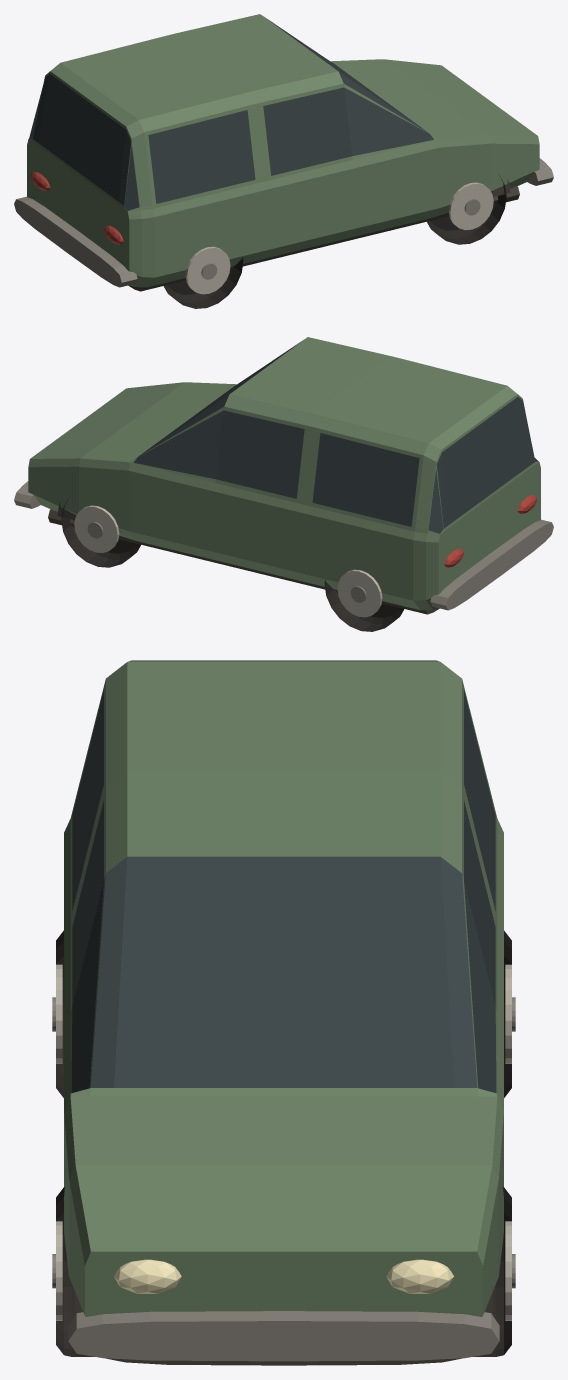
File: hatchback-zeytin.glb
3 views of the same model, one above another, from view 1: azimuth 30°, elevation 25°; view 2: azimuth 150°, elevation 25°; view 3: azimuth 270°, elevation 25° (orthographic). The views are drawn at different scales.
Parts seen in each view (by area): view 1: a_zeytin, cam, tampon, jant, lastik, ic, stop; view 2: a_zeytin, cam, tampon, jant, lastik, ic, stop; view 3: a_zeytin, cam, tampon, lastik, far, jant, ic.
Boxes of the visible parts, x1,y1,x2,y2 form: a_zeytin: (27,14,539,287); cam: (29,17,433,210); tampon: (14,158,553,287); jant: (185,182,493,294); lastik: (163,175,506,308); ic: (128,179,519,291); stop: (30,172,123,244); a_zeytin: (28,337,540,610); cam: (134,340,538,533); tampon: (14,481,553,610); jant: (74,505,382,617); lastik: (61,498,404,631); ic: (48,502,439,614); stop: (444,495,537,567); a_zeytin: (64,660,503,1316); cam: (71,690,496,1092); tampon: (52,997,515,1361); lastik: (56,930,511,1356); far: (114,1259,453,1293); jant: (56,964,511,1320); ic: (75,927,492,1365).
Bounding box in the file's own units: 3.81 × 1.61 × 1.77.
